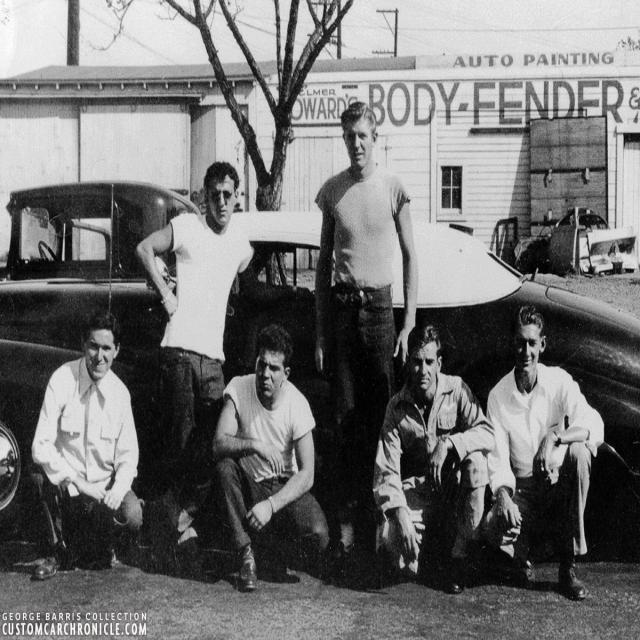body: (132, 160, 313, 549), (310, 96, 421, 593), (482, 298, 606, 604), (370, 318, 498, 597), (209, 318, 332, 595), (28, 304, 144, 583)
